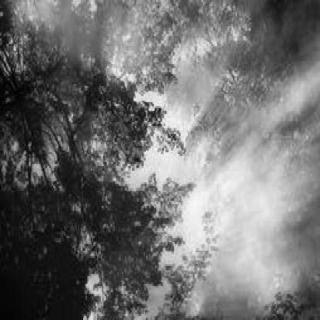Fire: (84, 248, 170, 316)
